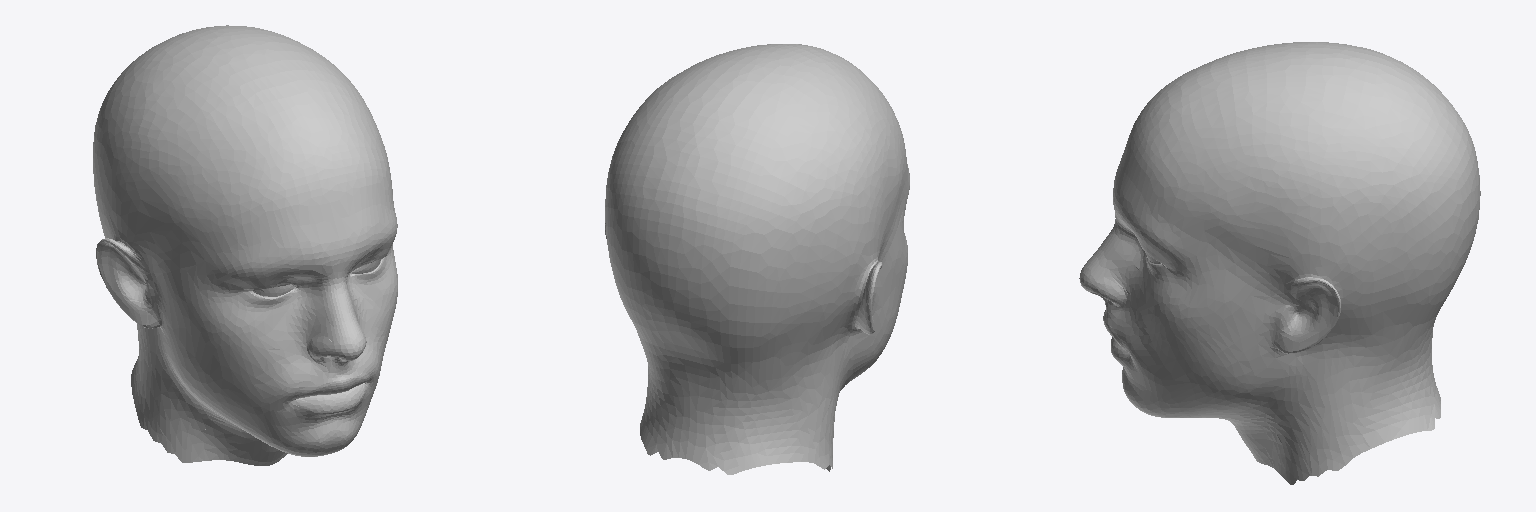
The model's file is bret.obj.
3 renders of one model, left to right at view 1: azimuth 30°, elevation 25°; view 2: azimuth 150°, elevation 25°; view 3: azimuth 270°, elevation 25°, orthographic.
Parts seen in each view (by area): view 1: FaceBuilderHead_FaceBuilderHead_mesh; view 2: FaceBuilderHead_FaceBuilderHead_mesh; view 3: FaceBuilderHead_FaceBuilderHead_mesh.
Part boxes in pixels (left/top/right/bottom): FaceBuilderHead_FaceBuilderHead_mesh: left=93, top=25, right=397, bottom=465; FaceBuilderHead_FaceBuilderHead_mesh: left=605, top=44, right=909, bottom=474; FaceBuilderHead_FaceBuilderHead_mesh: left=1079, top=42, right=1480, bottom=484.
Bounding box in the file's own units: 1.71 × 2.46 × 2.23.